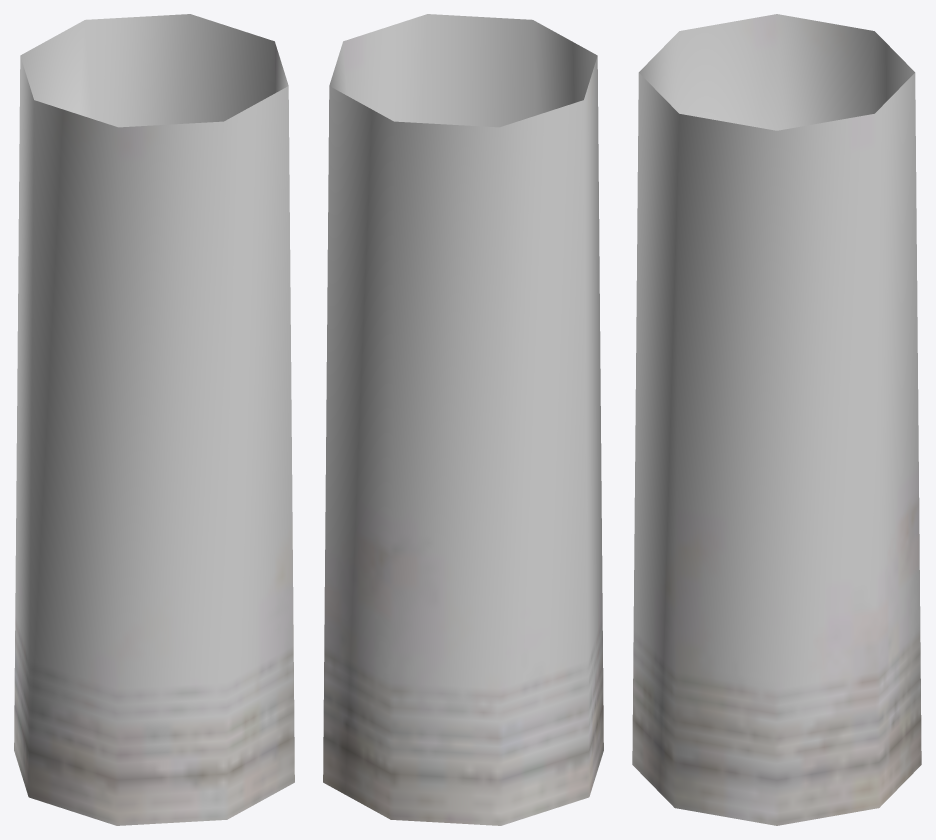
Rendered from edb_con_tato_cup_s2_l1.fbx.
3 renders of one model, left to right at view 1: azimuth 30°, elevation 25°; view 2: azimuth 150°, elevation 25°; view 3: azimuth 270°, elevation 25°, orthographic.
Visible parts, largest first — view 1: mesh_node; view 2: mesh_node; view 3: mesh_node.
Boxes of the visible parts, bbox=[...] form: mesh_node: bbox=[14, 14, 294, 825]; mesh_node: bbox=[323, 14, 603, 825]; mesh_node: bbox=[632, 14, 921, 825].
Size of the model in its own units: 0.0923 by 0.2438 by 0.0923.
Materials: 1 (1 with a texture image).
